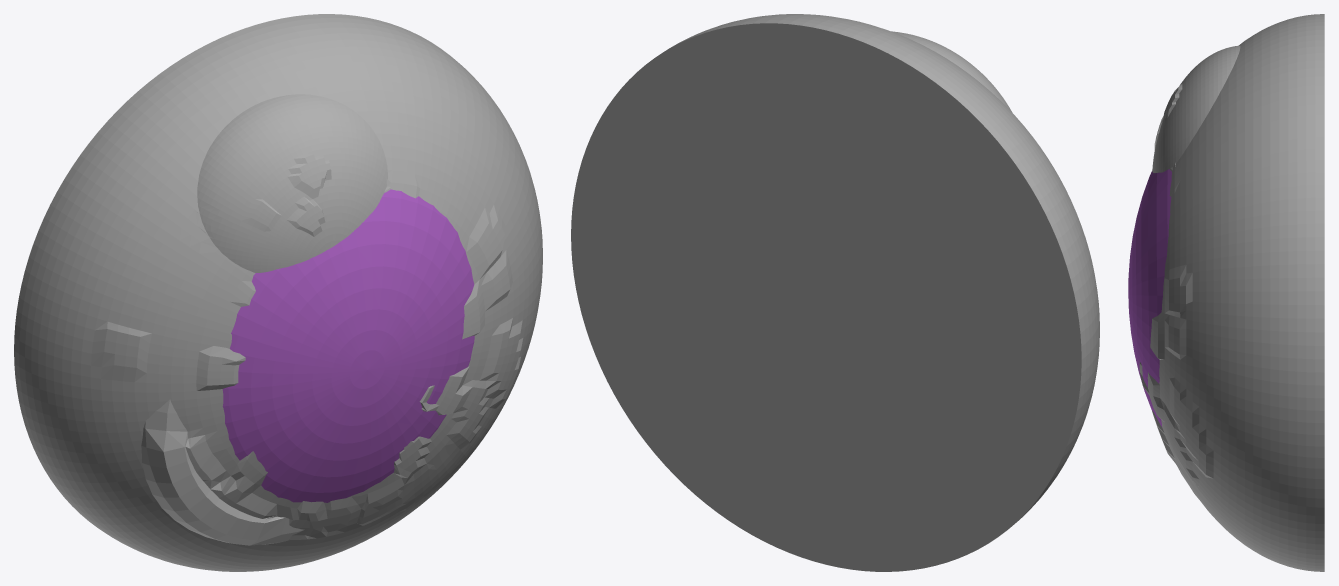
File: G07_A0_ALIGNED_GT.glb
3 renders of one model, left to right at view 1: azimuth 30°, elevation 25°; view 2: azimuth 150°, elevation 25°; view 3: azimuth 270°, elevation 25°, orthographic. The views are drawn at different scales.
Parts seen in each view (by area): view 1: Independent_GT, A0; view 2: Independent_GT; view 3: Independent_GT, A0.
Part boxes in pixels (<box>): Independent_GT: <box>14,14,542,571</box>; A0: <box>222,189,474,502</box>; Independent_GT: <box>571,14,1099,571</box>; Independent_GT: <box>1139,14,1324,571</box>; A0: <box>1128,169,1171,426</box>.
Size of the model in its own units: 0.014 by 0.014 by 0.00492.
